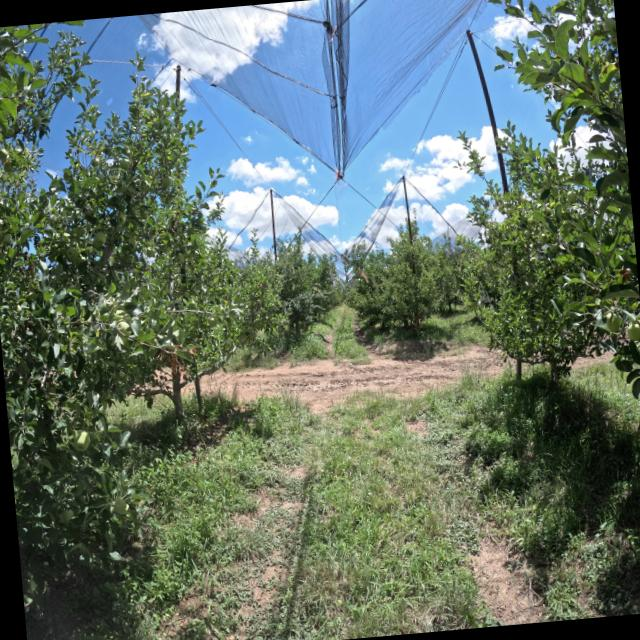-FireBlight-: (154, 344, 197, 384)
